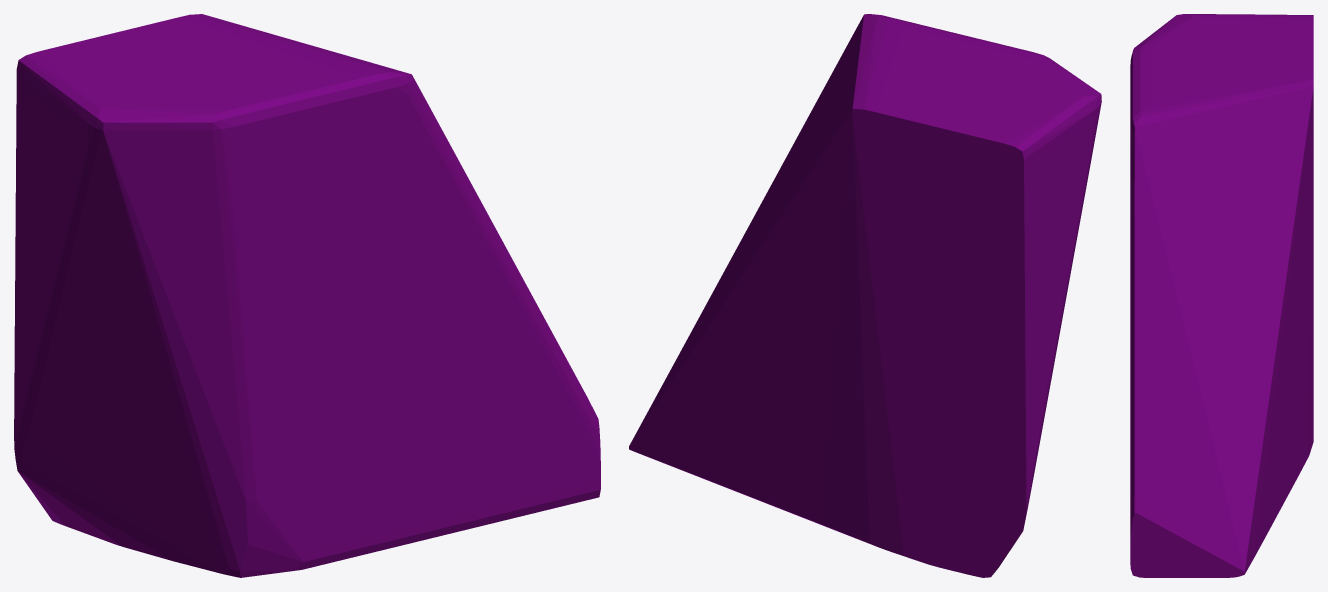
The model's file is left-shoulder-pitch-0_part_11.obj.
3 renders of one model, left to right at view 1: azimuth 30°, elevation 25°; view 2: azimuth 150°, elevation 25°; view 3: azimuth 270°, elevation 25°, orthographic. The views are drawn at different scales.
Bounding box in the file's own units: 0.0545 × 0.0524 × 0.0228.
